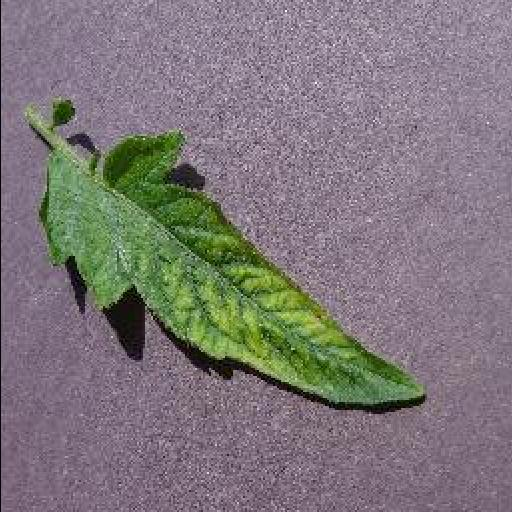Mosaic Virus: (44, 129, 430, 411)
